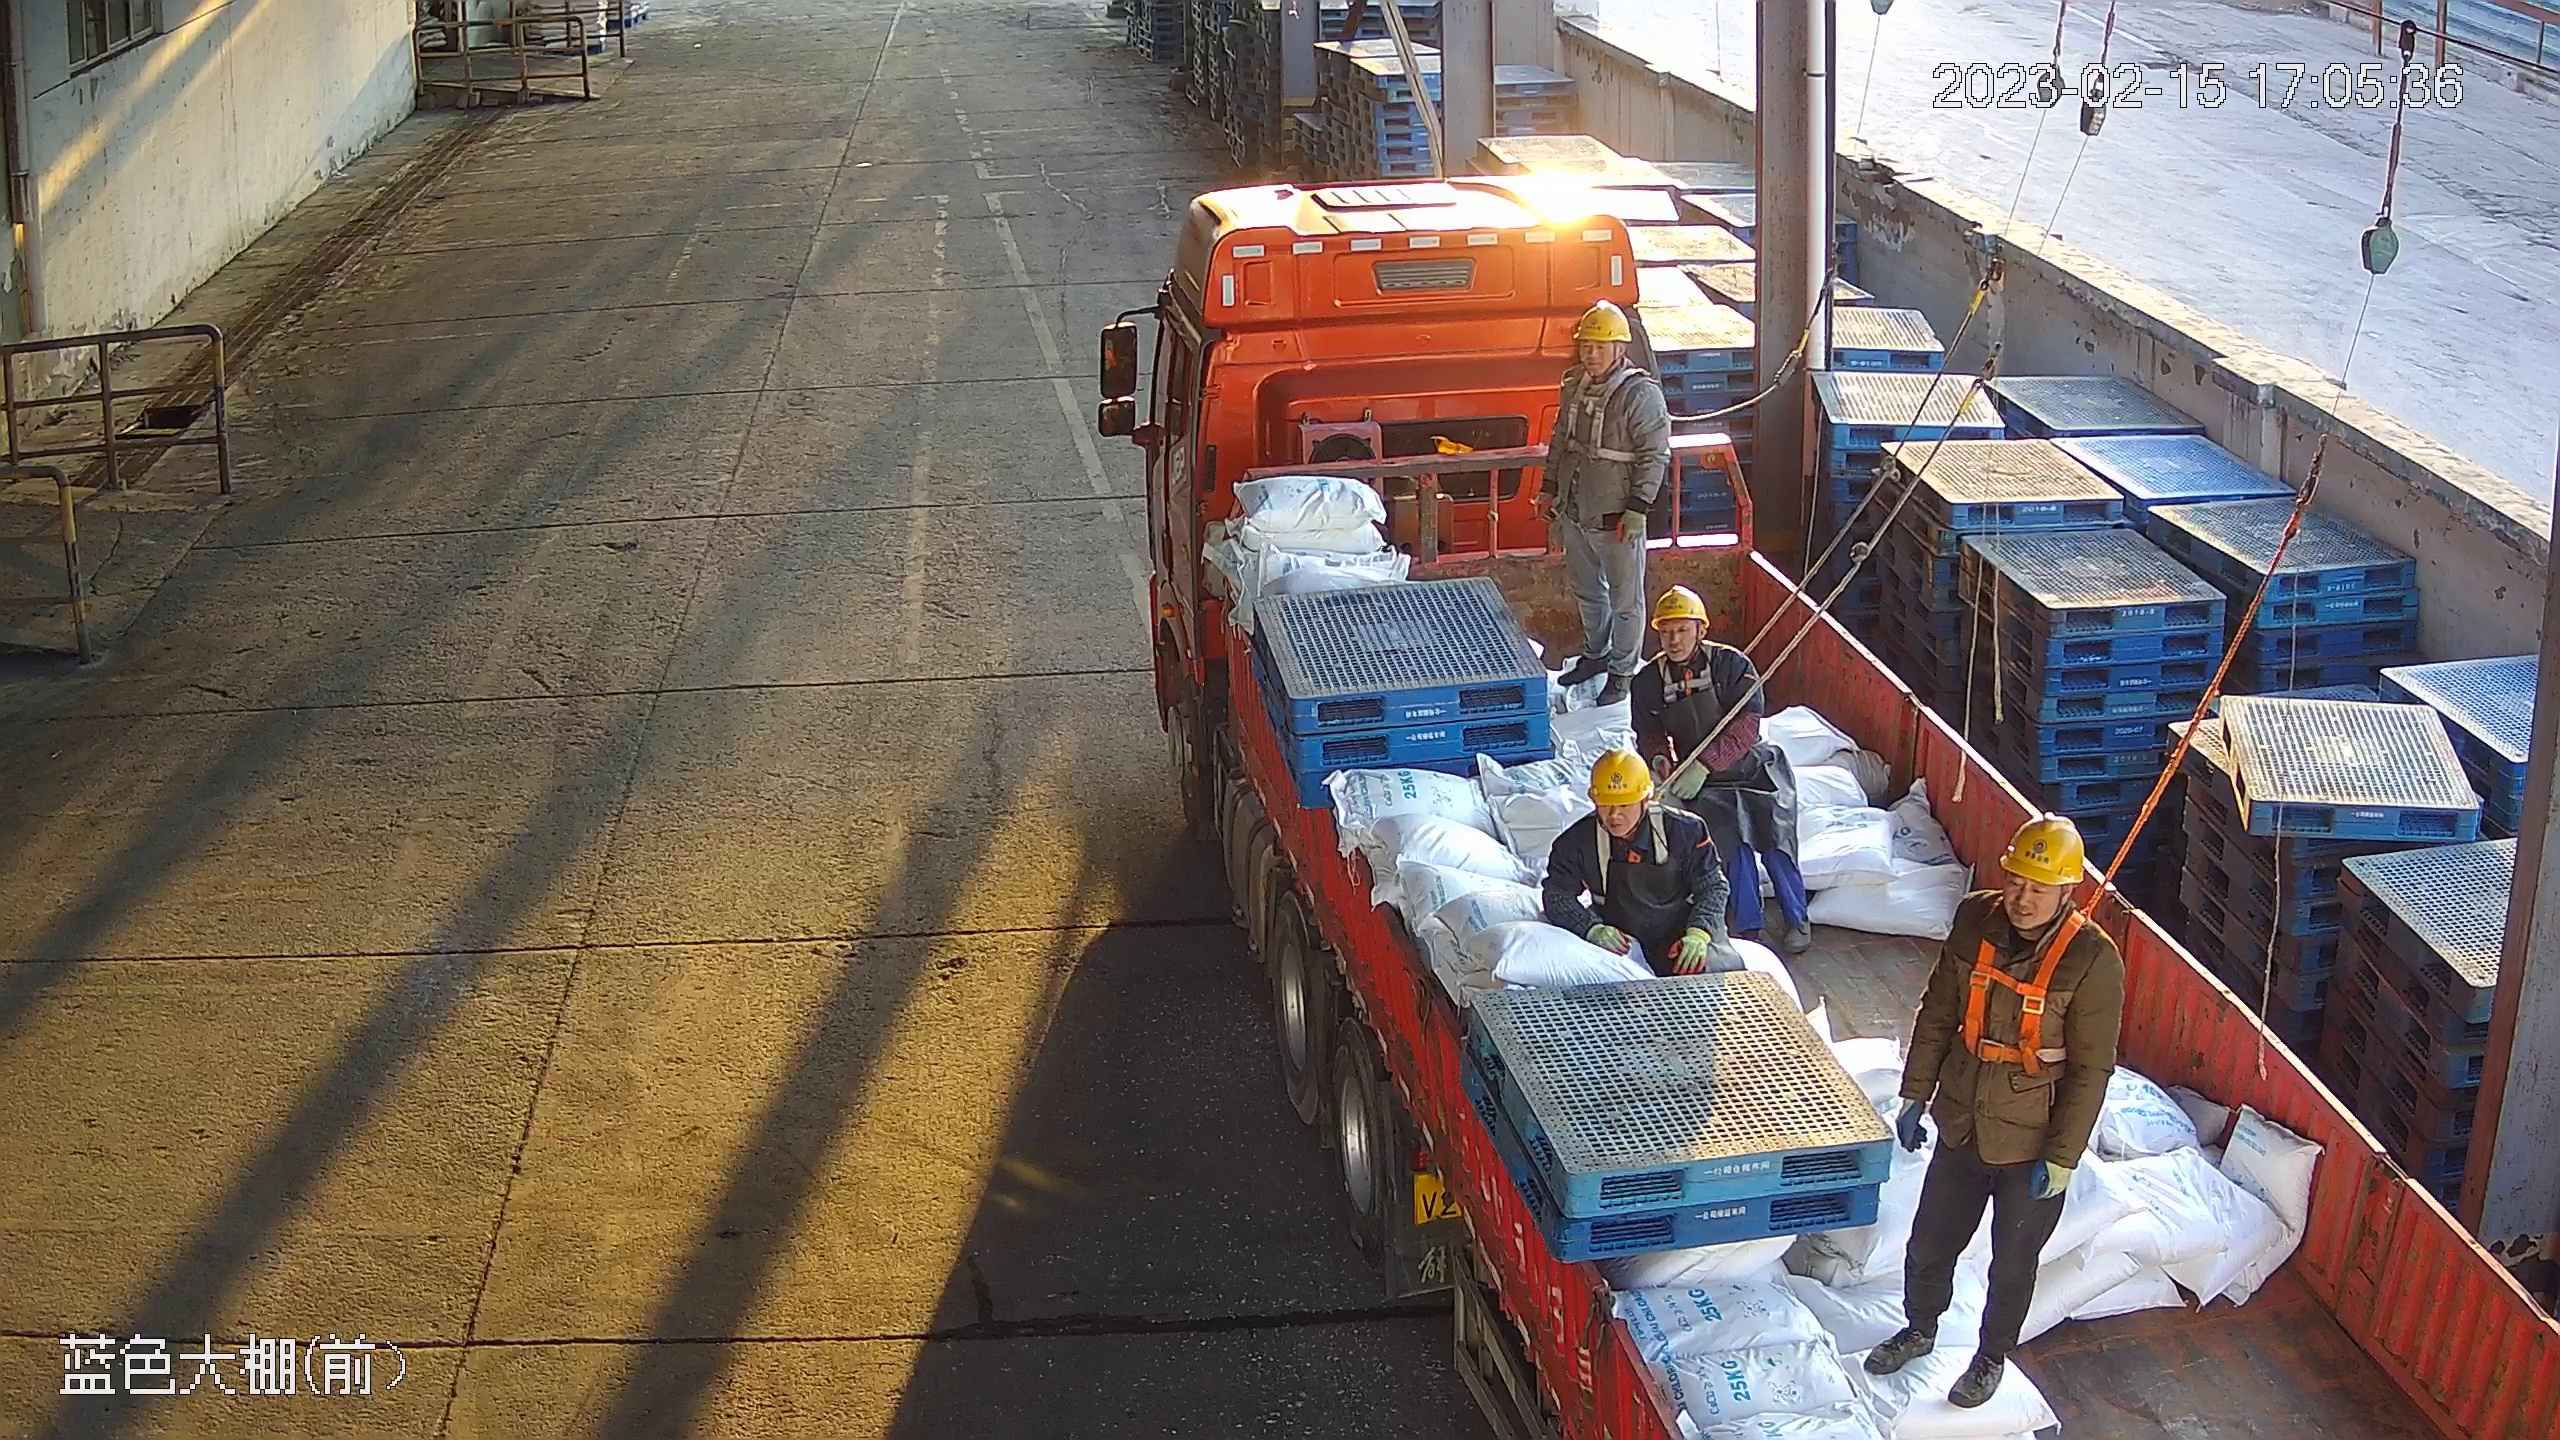belt: (1959, 902, 2079, 1082), (1561, 367, 1651, 467), (1584, 813, 1696, 882), (1654, 647, 1726, 693)
head: (1910, 815, 2126, 1012), (1542, 748, 1699, 877), (1636, 582, 1757, 735), (1548, 299, 1658, 424)
helmet: (1997, 812, 2087, 886), (1588, 748, 1654, 803), (1574, 303, 1636, 347), (1652, 585, 1710, 627)
people: (1860, 813, 2124, 1410), (1630, 586, 1815, 952), (1534, 298, 1676, 703), (1540, 747, 1749, 979)
truck: (1096, 174, 2560, 1440)
